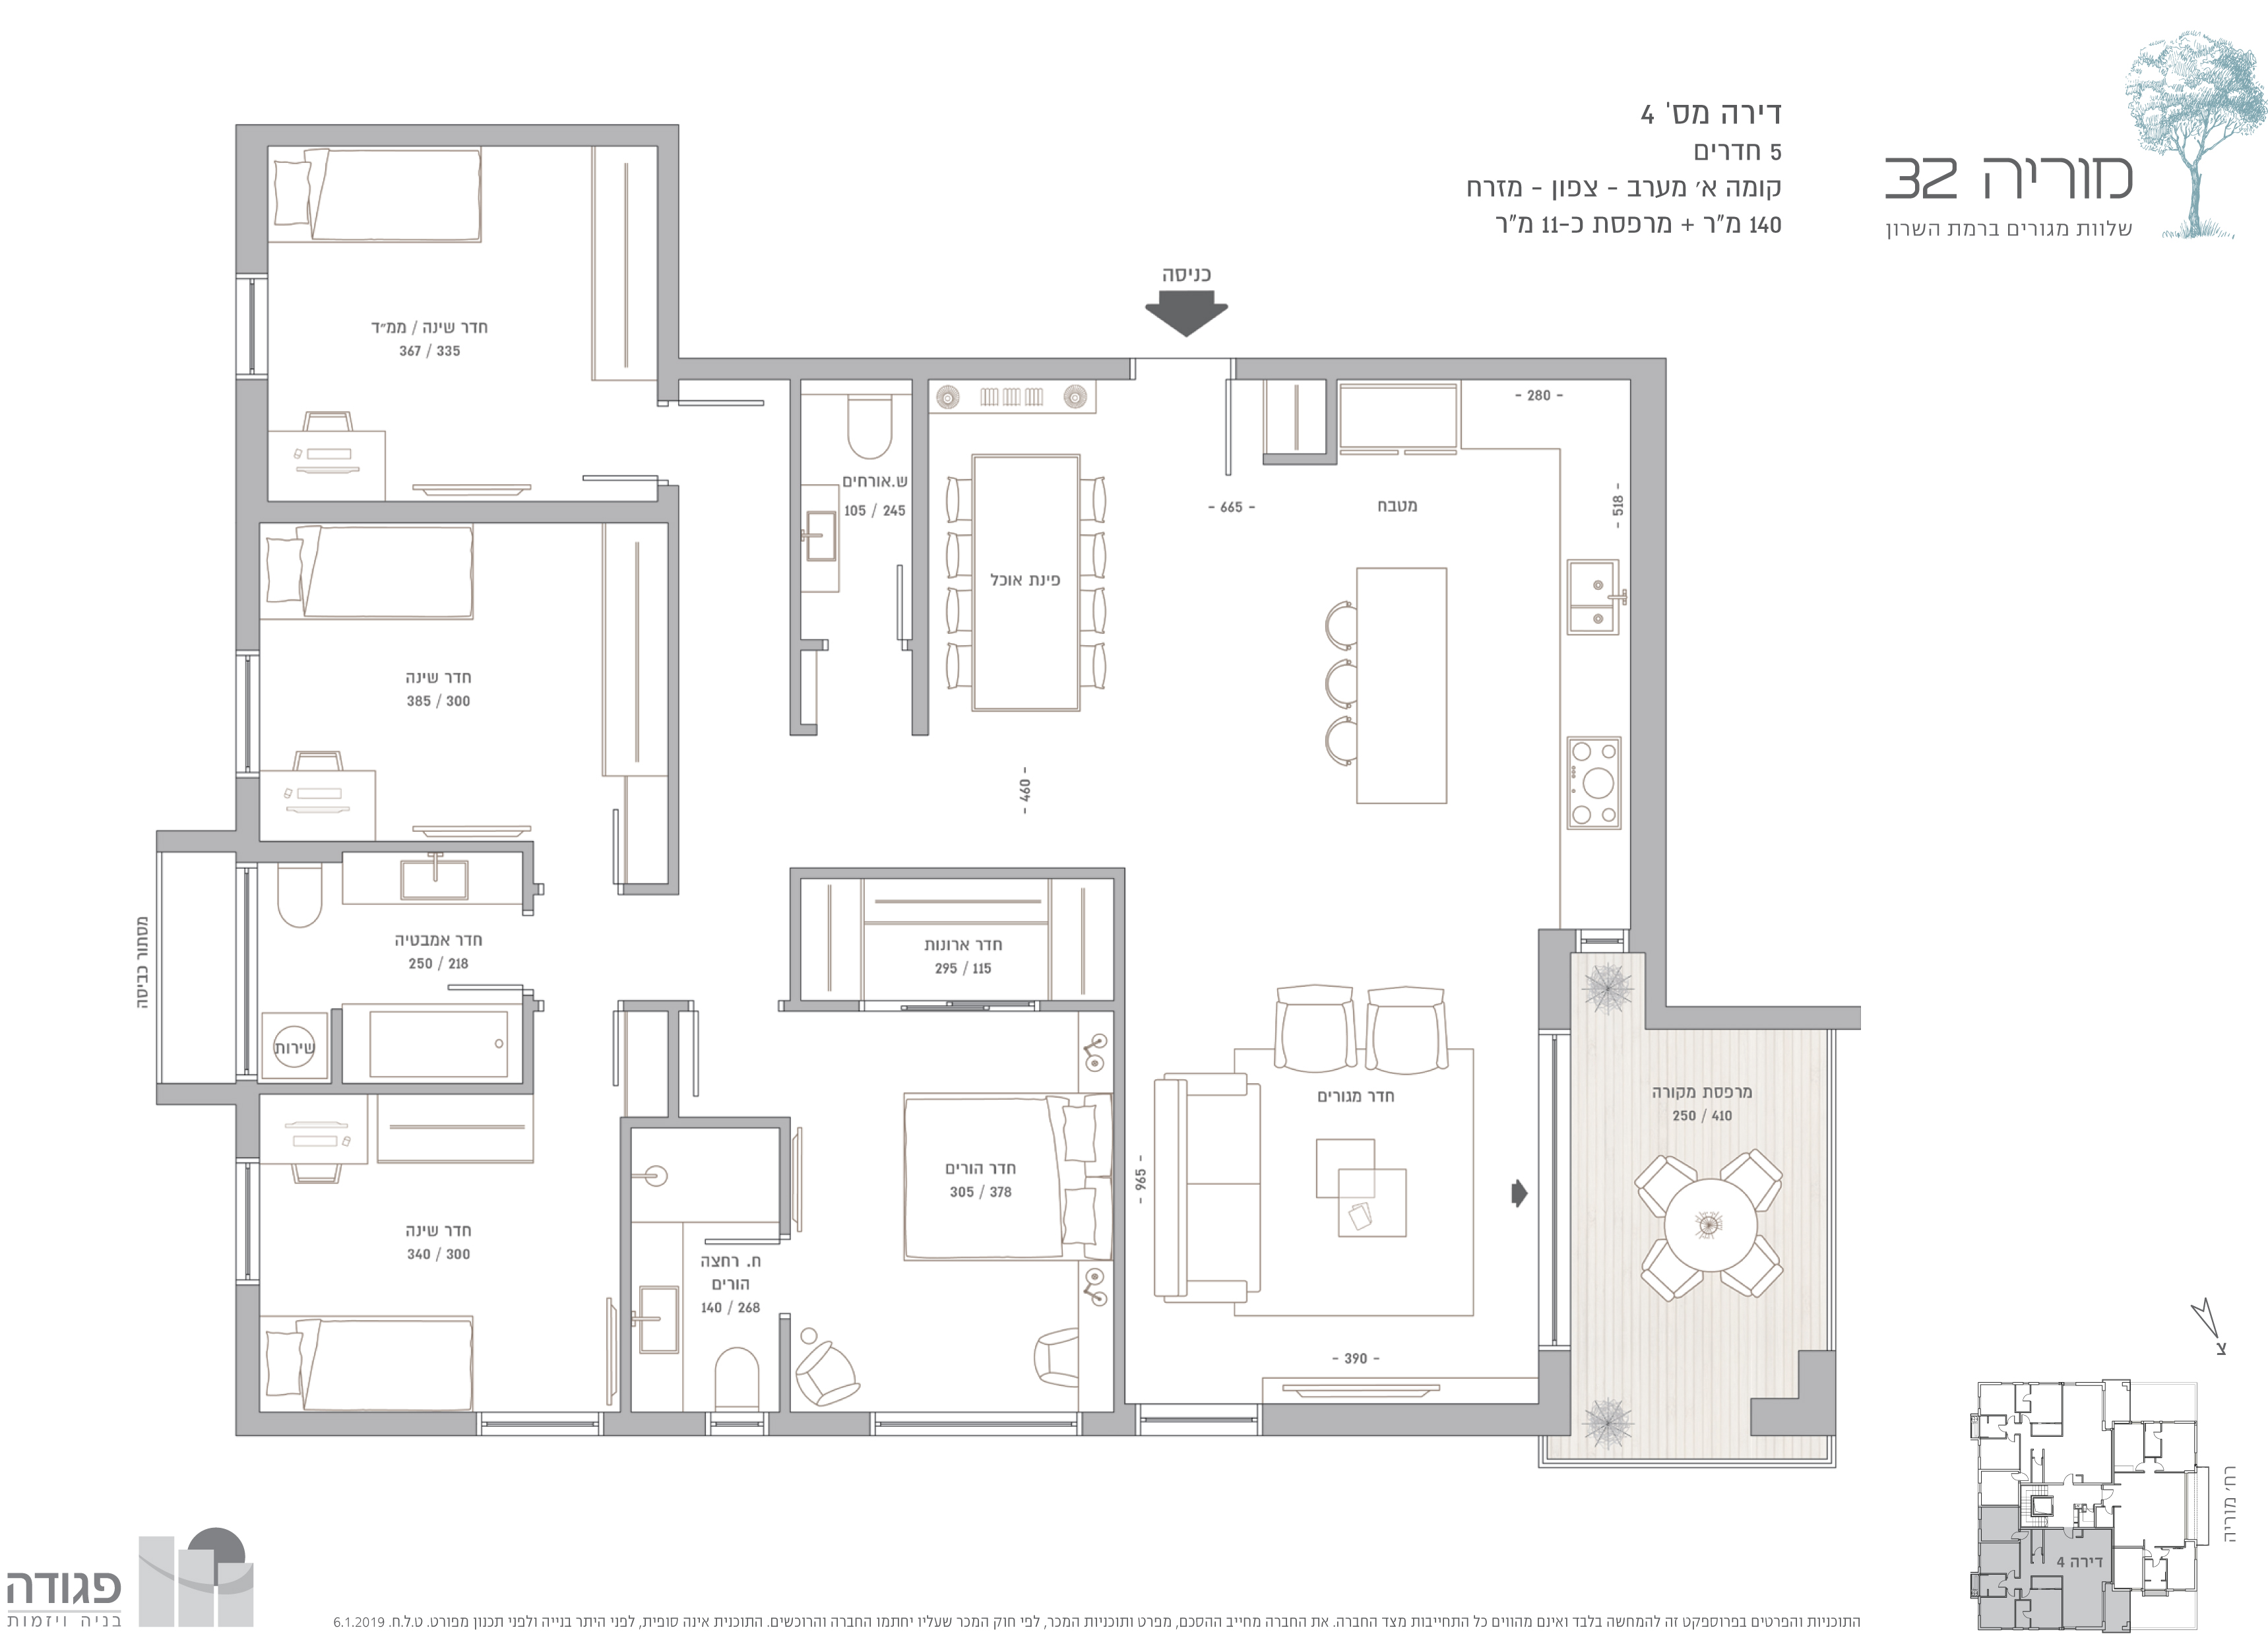wall: (1631, 361, 1668, 953), (1648, 1006, 1870, 1028)
window: (1539, 1028, 1567, 1349), (872, 1412, 1081, 1437), (236, 866, 257, 1078), (1139, 1402, 1264, 1435), (479, 1411, 602, 1441), (236, 275, 271, 379), (236, 652, 261, 773), (236, 1157, 259, 1282), (708, 1414, 768, 1433), (1579, 930, 1629, 953)
